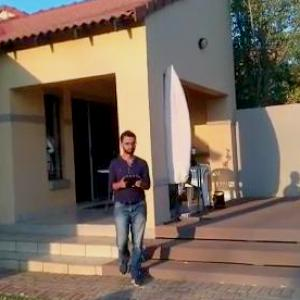follow: (108, 127, 154, 290)
